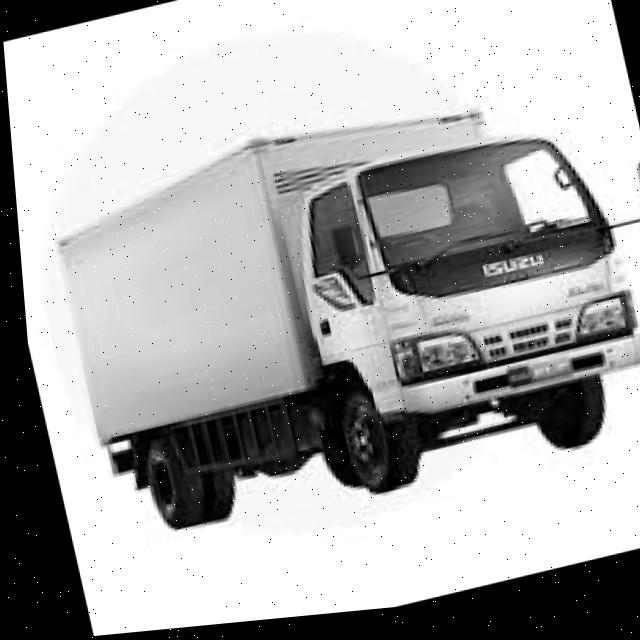truck: (248, 80, 640, 521)
